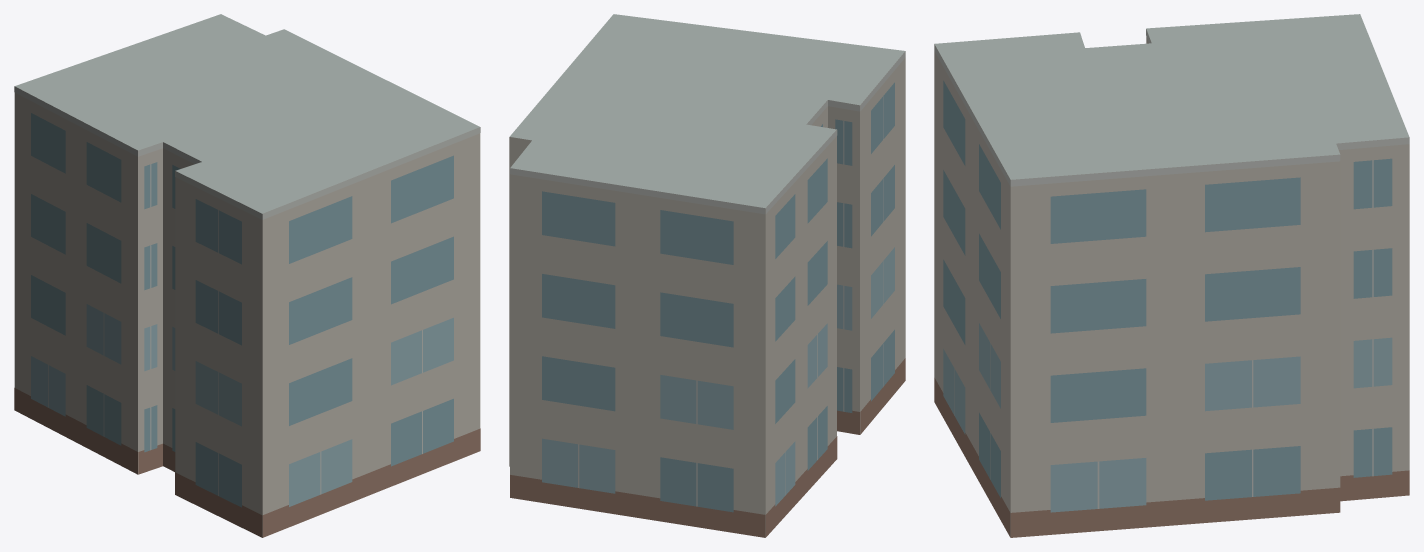
The model's file is survey-upis-32910337.glb.
3 renders of one model, left to right at view 1: azimuth 30°, elevation 25°; view 2: azimuth 150°, elevation 25°; view 3: azimuth 270°, elevation 25°, orthographic. The views are drawn at different scales.
Parts seen in each view (by area): view 1: survey-upis-32910337.tmp; view 2: survey-upis-32910337.tmp; view 3: survey-upis-32910337.tmp.
Boxes of the visible parts, left/top/right/bottom form: survey-upis-32910337.tmp: left=14, top=14, right=480, bottom=537; survey-upis-32910337.tmp: left=509, top=14, right=905, bottom=537; survey-upis-32910337.tmp: left=934, top=14, right=1409, bottom=537.
Bounding box in the file's own units: 12.73 × 12.8 × 15.41.
